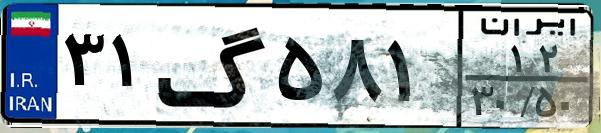0: (560, 70, 590, 125), (495, 70, 520, 125)
1: (385, 28, 445, 110), (110, 28, 156, 98), (508, 27, 537, 80)
2: (537, 27, 568, 80)
3: (57, 26, 110, 100), (470, 70, 495, 125)
5: (270, 28, 330, 110), (535, 70, 560, 125)
8: (330, 28, 385, 110)
گ: (156, 12, 270, 120)
